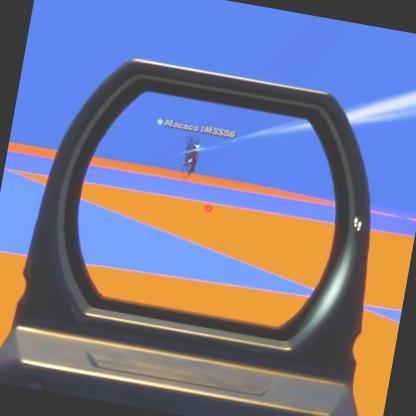person: (182, 140, 204, 182)
